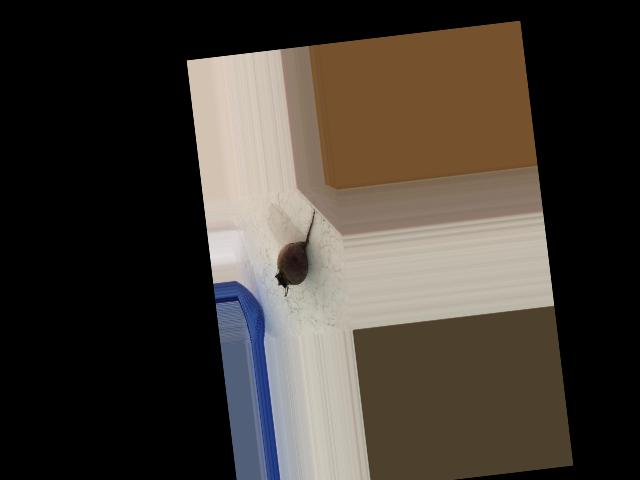beet: (268, 208, 324, 296)
